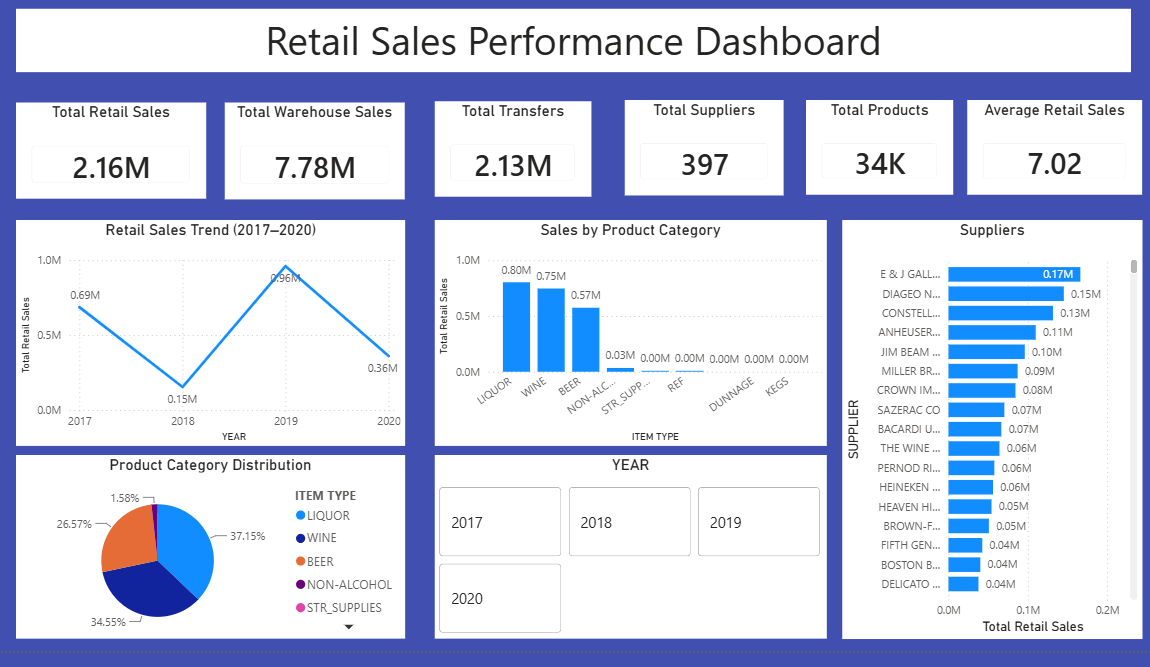

What the dashboard file says about the page in this screenshot:
{"tool":"powerbi","page":{"name":"Page 1","canvas":[1280,720],"ordinal":0},"visuals":[{"type":"cardVisual","title":"Total Retail Sales","fields":{"Data":["Warehouse_and_Retail_Sales.Total Retail Sales"]},"box":[27.4,118,208.6,105.7],"z":0},{"type":"textbox","box":[27.4,15.1,1224,70],"z":1000},{"type":"cardVisual","title":"Total Warehouse Sales","fields":{"Data":["Sum(Warehouse_and_Retail_Sales.WAREHOUSE SALES)"]},"box":[256.9,117.8,197.3,106.5],"z":2000},{"type":"cardVisual","title":"Total Transfers","fields":{"Data":["Warehouse_and_Retail_Sales.Total Transfers"]},"box":[486.9,116.4,171.7,105],"z":3000},{"type":"cardVisual","title":"Total Suppliers","fields":{"Data":["Warehouse_and_Retail_Sales.Total Suppliers"]},"box":[695.5,115,174.6,105],"z":4000},{"type":"cardVisual","title":"Total Products","fields":{"Data":["Warehouse_and_Retail_Sales.Total Products"]},"box":[894.2,115,161.8,103.6],"z":5000},{"type":"cardVisual","title":"Average Retail Sales","fields":{"Data":["Warehouse_and_Retail_Sales.Average Retail Sales"]},"box":[1071.6,115,191.6,103.6],"z":6000},{"type":"lineChart","title":"Retail Sales Trend (2017–2020)","fields":{"Category":["Warehouse_and_Retail_Sales.YEAR"],"Y":["Warehouse_and_Retail_Sales.Total Retail Sales"]},"box":[27,247,427.2,248.4],"z":7000},{"type":"clusteredColumnChart","title":"Sales by Product Category","fields":{"Category":["Warehouse_and_Retail_Sales.ITEM TYPE"],"Y":["Warehouse_and_Retail_Sales.Total Retail Sales"]},"box":[486.9,247,430.1,248.4],"z":8000},{"type":"barChart","title":" Suppliers","fields":{"Category":["Warehouse_and_Retail_Sales.SUPPLIER"],"Y":["Warehouse_and_Retail_Sales.Total Retail Sales"]},"box":[934,247,329.3,459.9],"z":9000},{"type":"pieChart","title":"Product Category Distribution","fields":{"Category":["Warehouse_and_Retail_Sales.ITEM TYPE"],"Y":["Warehouse_and_Retail_Sales.Total Retail Sales"]},"box":[27,505.3,427.2,201.6],"z":10000},{"type":"advancedSlicerVisual","fields":{"Values":["Warehouse_and_Retail_Sales.YEAR"]},"box":[486.9,505.3,430.1,201.6],"z":11000}]}

Visuals, with their boxes in screenshot pixels (x1, y1, x2, y2):
"Total Retail Sales" cardVisual: select_region(10, 99, 202, 197)
textbox: select_region(10, 5, 1135, 69)
"Total Warehouse Sales" cardVisual: select_region(221, 99, 402, 197)
"Total Transfers" cardVisual: select_region(432, 98, 590, 194)
"Total Suppliers" cardVisual: select_region(624, 97, 784, 193)
"Total Products" cardVisual: select_region(806, 97, 955, 192)
"Average Retail Sales" cardVisual: select_region(969, 97, 1145, 192)
"Retail Sales Trend (2017–2020)" lineChart: select_region(10, 218, 402, 446)
"Sales by Product Category" clusteredColumnChart: select_region(432, 218, 827, 446)
" Suppliers" barChart: select_region(843, 218, 1145, 640)
"Product Category Distribution" pieChart: select_region(10, 455, 402, 640)
advancedSlicerVisual - Warehouse_and_Retail_Sales.YEAR: select_region(432, 455, 827, 640)
